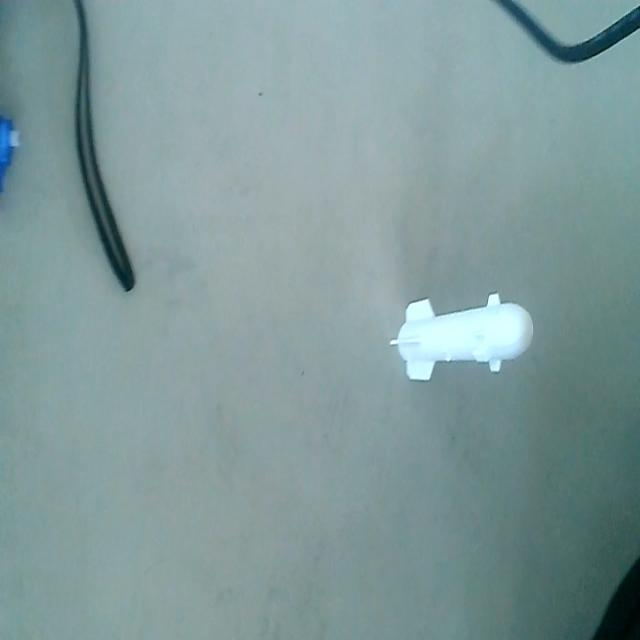Rocket: (388, 279, 538, 394)
